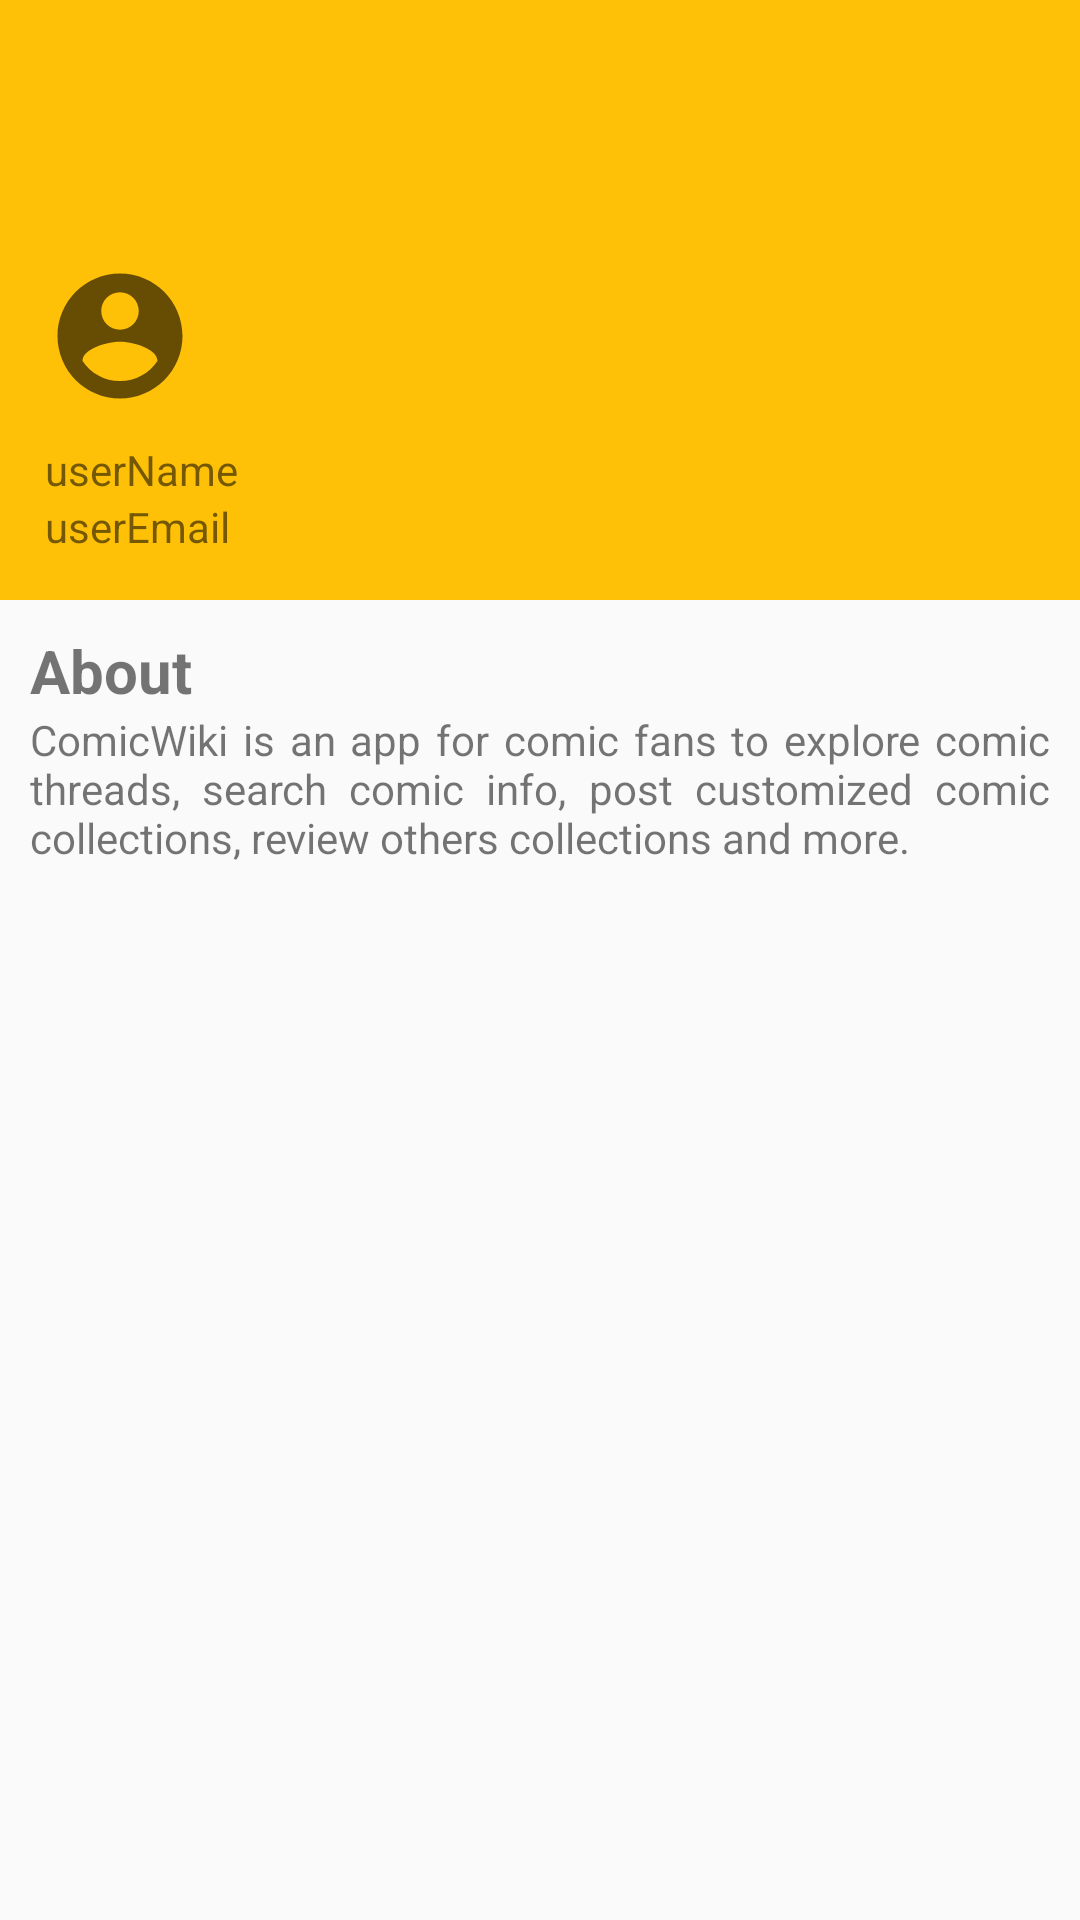

Screen size 1080px×1920px. Icon name, then its center in pixels as (x=x, y=y):
account circle: (x=120, y=336)
